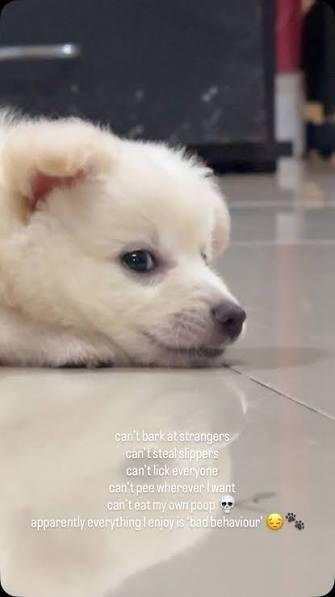puppy-dog: (0, 108, 248, 369)
